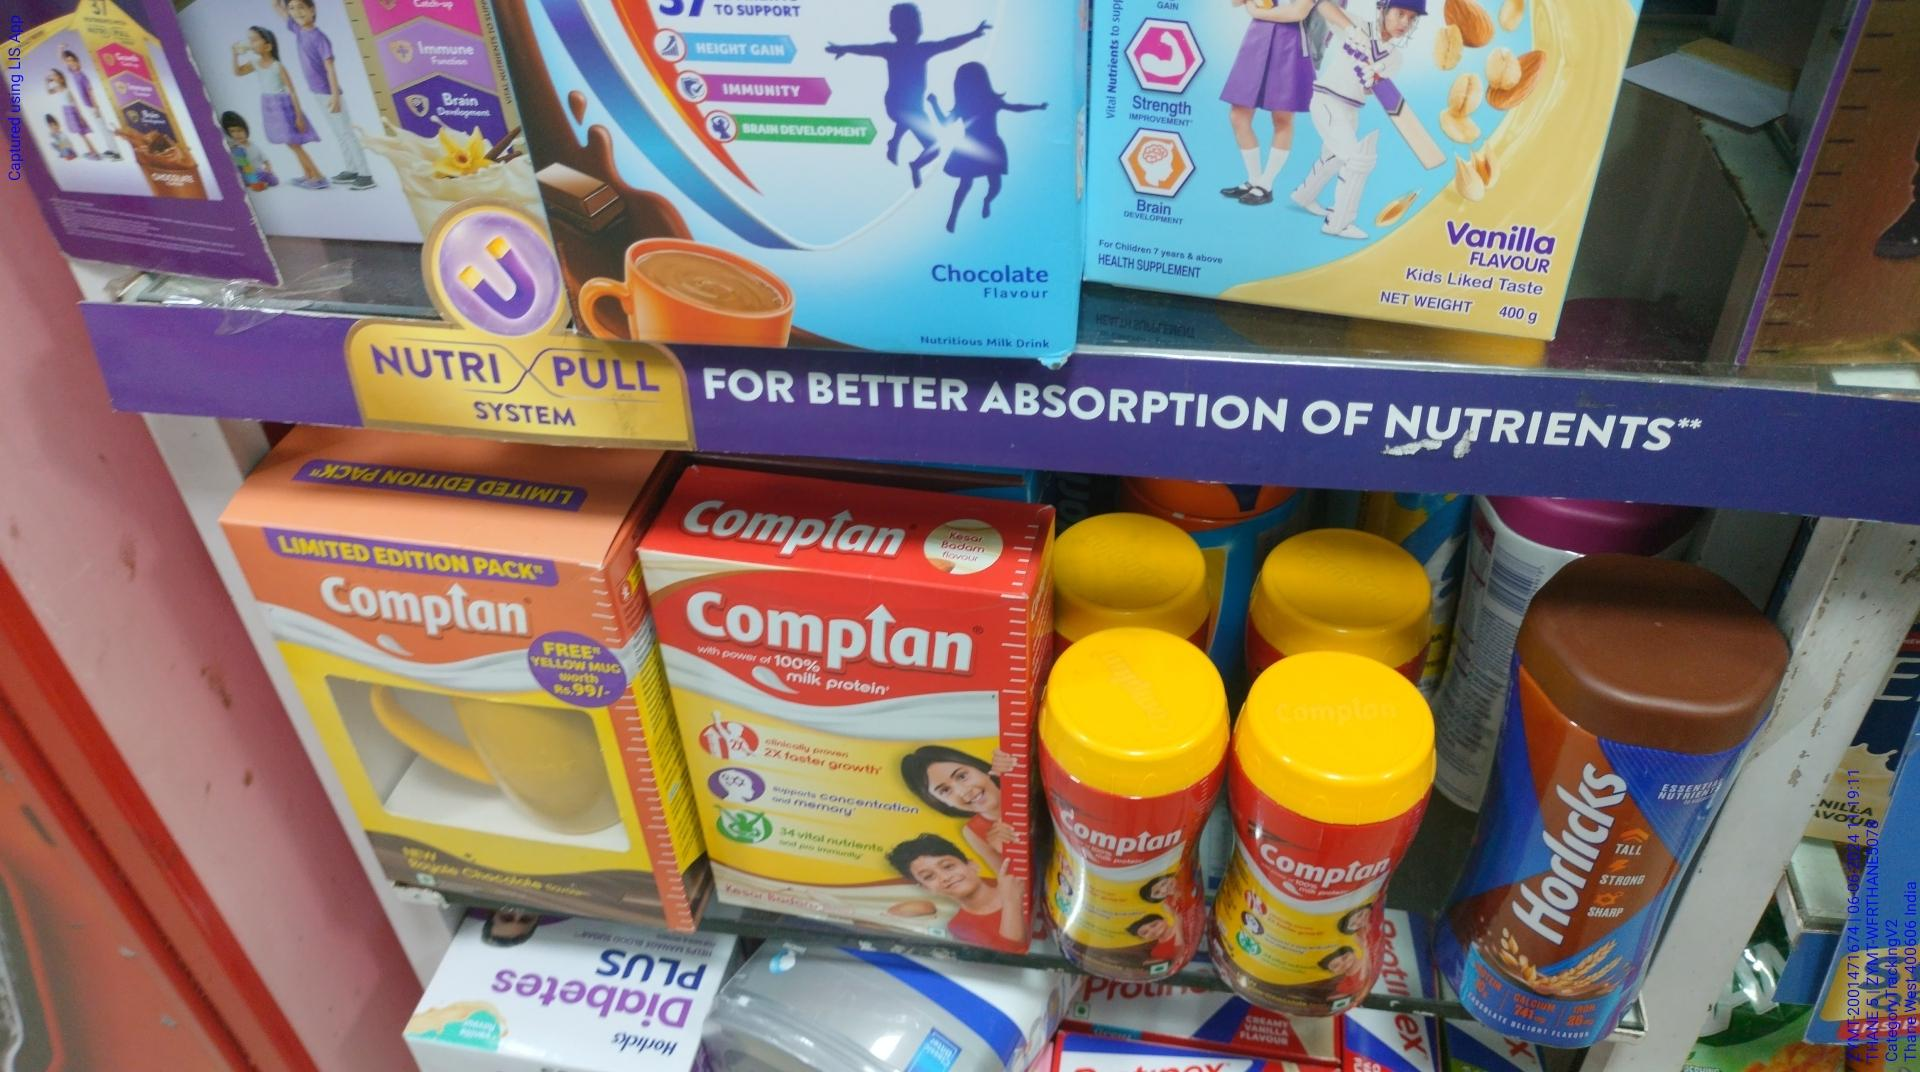COMPLAN_CHOCOLATE_200_GMS_JAR: (1234, 716, 1429, 1030), (1039, 705, 1215, 998)
HORLICK_CHOCOLATE_500_G_JAR: (1462, 653, 1738, 1071)
